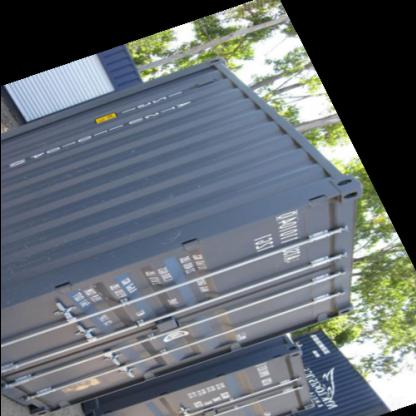Damage: (150, 225, 188, 249), (122, 138, 142, 160)
